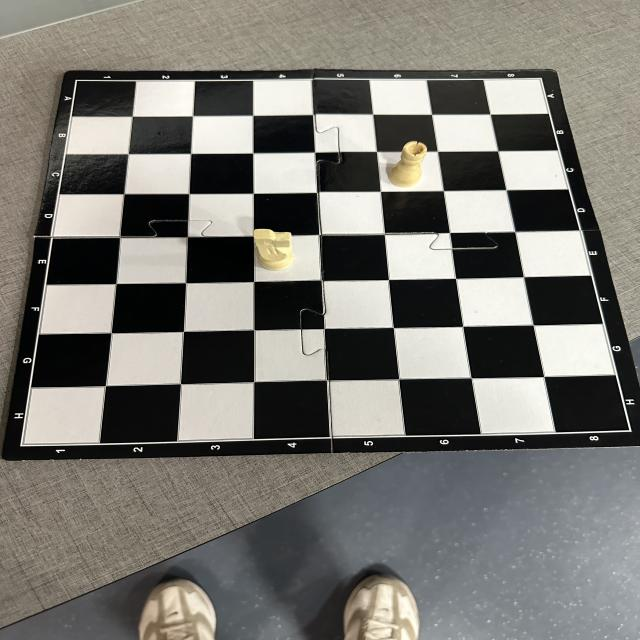White-Knight: (252, 228, 295, 271)
White-Rook: (388, 140, 427, 187)
